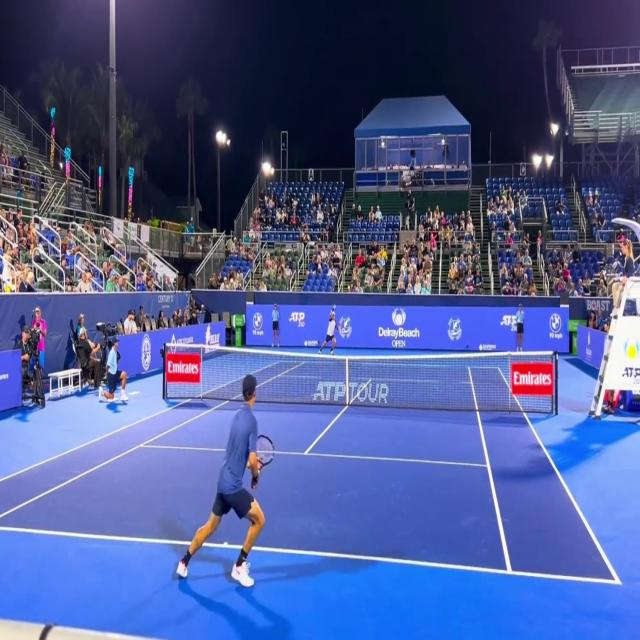tennisBall: (344, 280, 354, 296)
